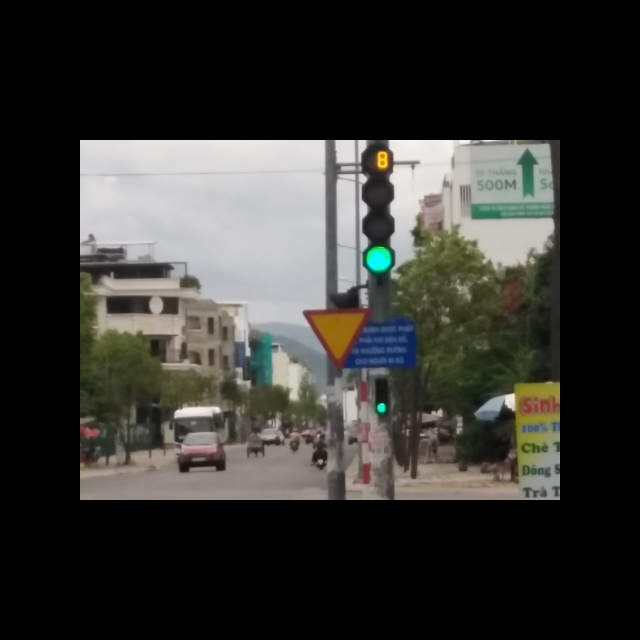Giao nhau với đường ưu tiên: (303, 309, 374, 371)
Đèn xanh: (362, 242, 396, 275)
